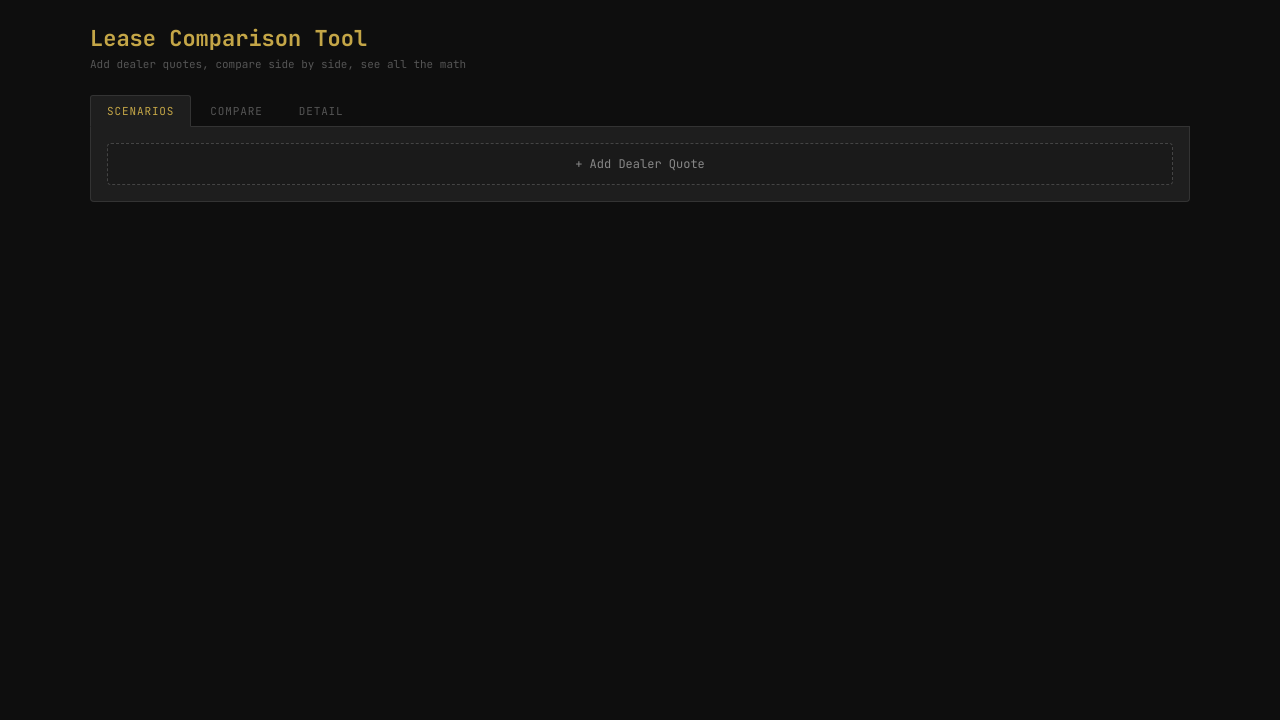
Test: App › switches to compare tab with data
Click the button "+ Add Dealer Quote".
click(640, 164)  # box [107,143,1173,185]
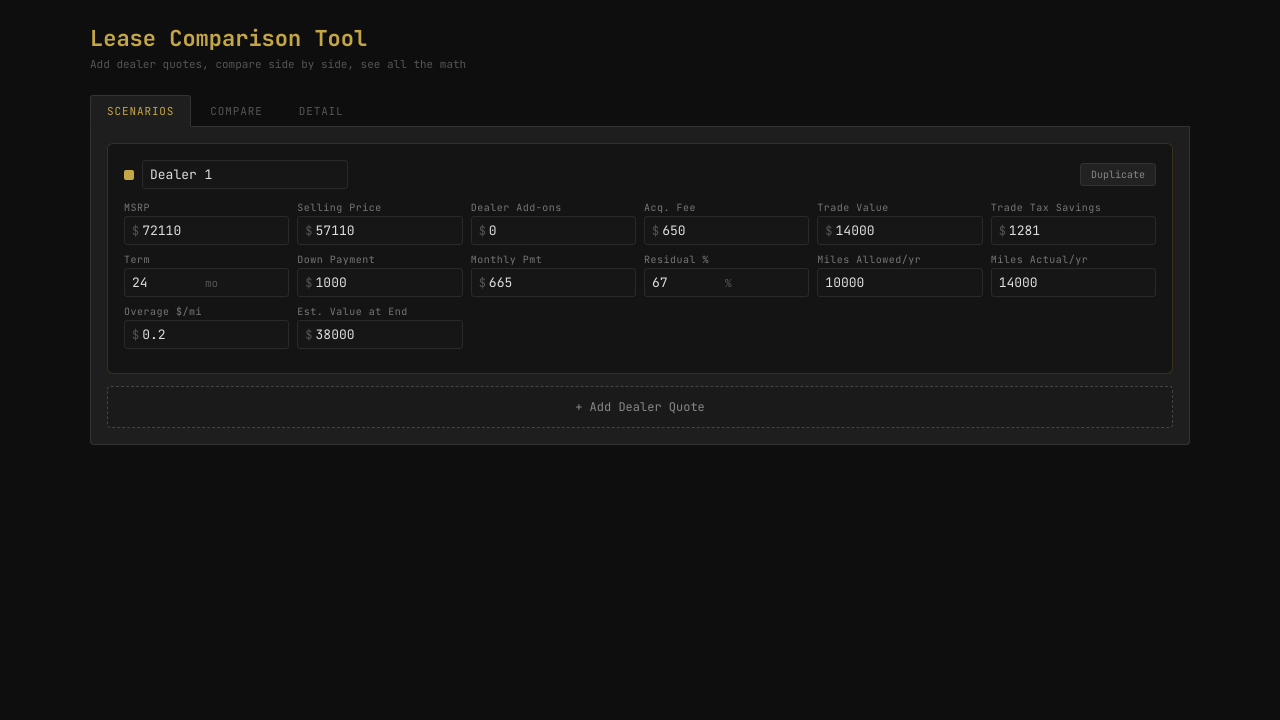
Click the button "compare".
click(236, 111)  # box [193,95,280,127]
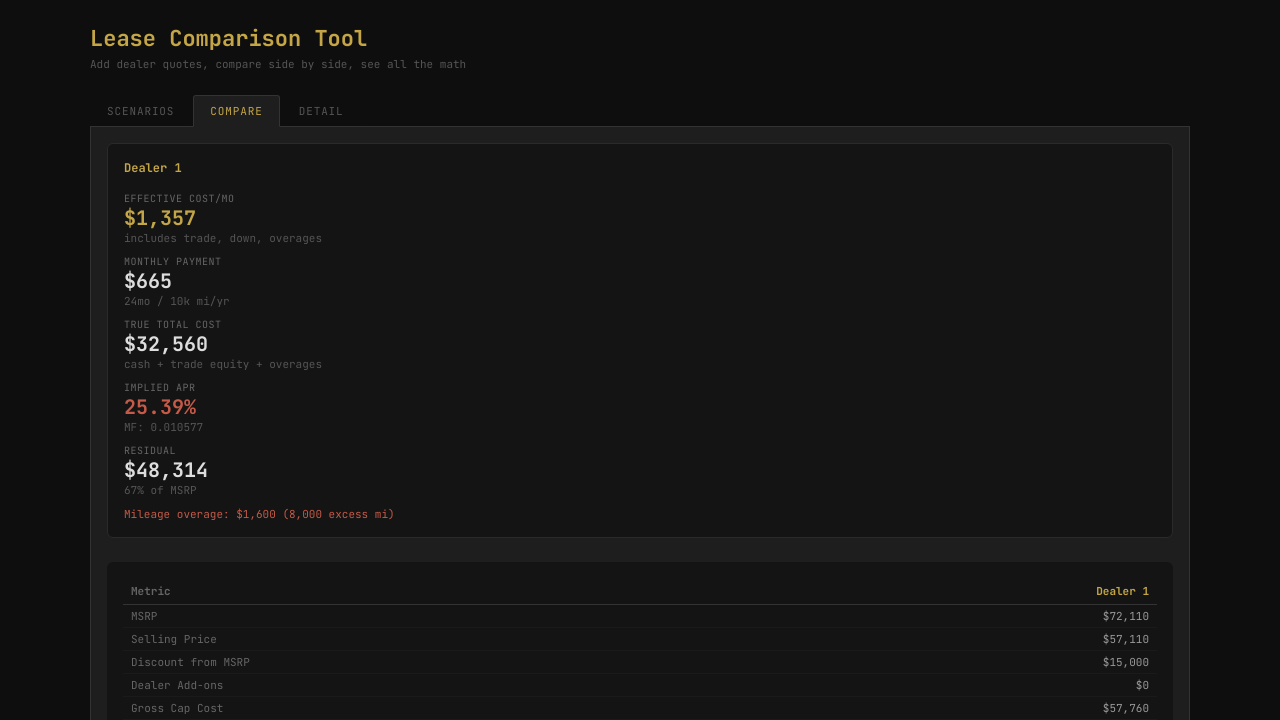
Check: the text "EFFECTIVE COST/MO" is shown, box [124,192,234,205]
